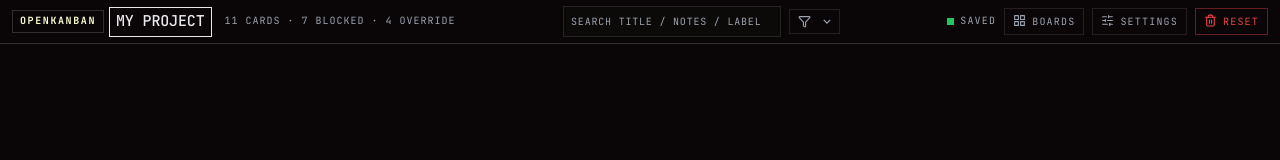
TopBar — the board title is an in-place rename control › blur commits the draft to storage
Press Enter
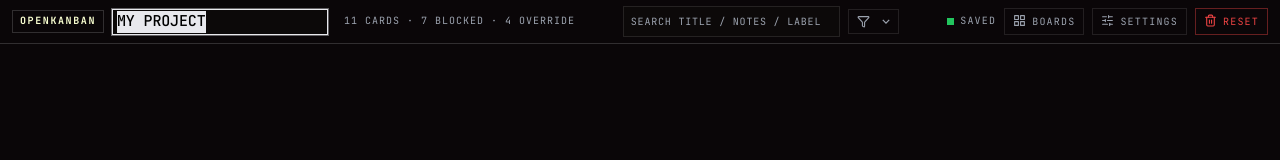
Replace the text in the field named "Board name" with "blurred into place" at (220, 22), box 112,9 -> 328,35
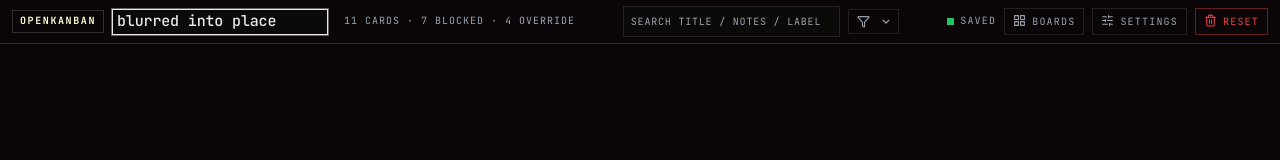
// tab away: the field loses focus without Enter or Escape
Press Tab
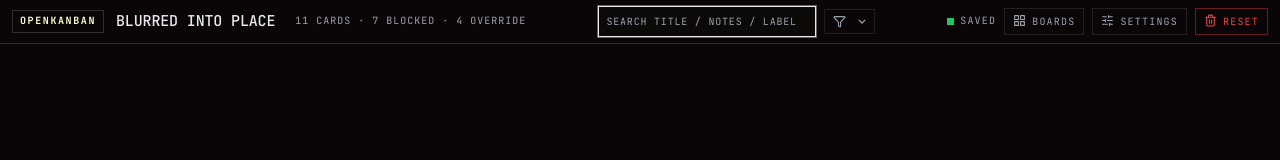
Expected: the text "BLURRED INTO PLACE" is shown, 112,10 -> 279,34
